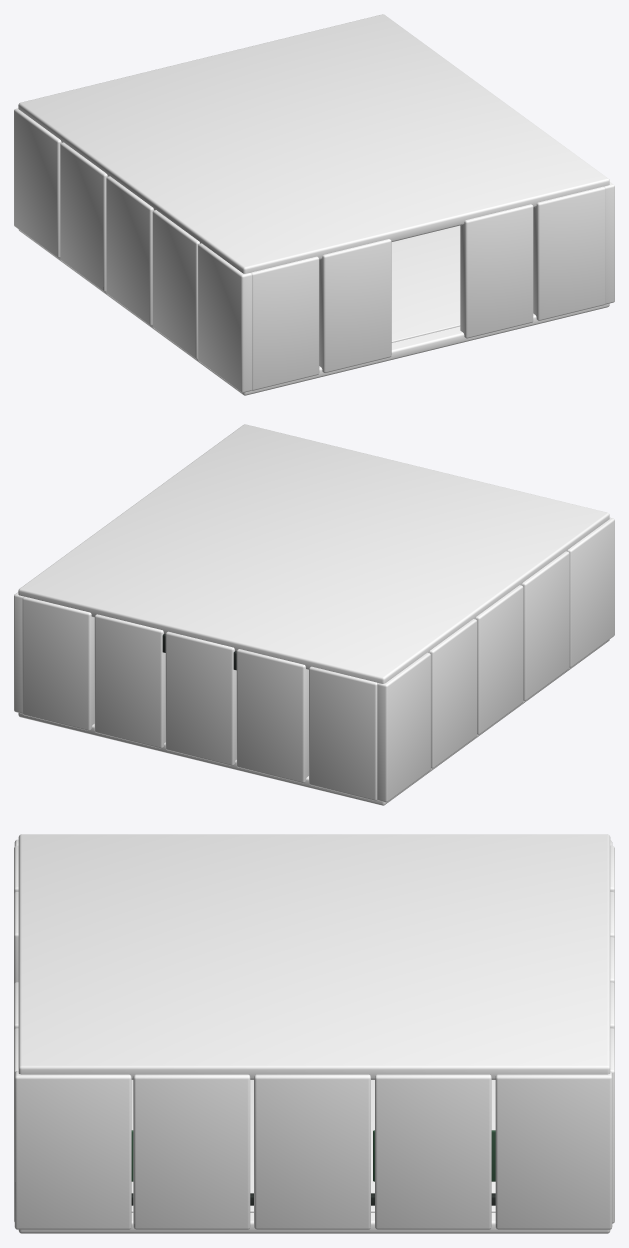
File: bunker_environment_v3.glb
3 renders of one model, top to bottom at view 1: azimuth 30°, elevation 25°; view 2: azimuth 150°, elevation 25°; view 3: azimuth 270°, elevation 25°, orthographic. The views are drawn at different scales.
Visible parts, largest first — view 1: Bunker_Ceiling, WallFront_3, WallFront_4, WallFront_1, WallFront_0, Bunker_FloorPlate, WallLeft_4, WallLeft_0, WallLeft_1, WallLeft_2, WallLeft_3, Bunker_FloorSlab (+1 smaller); view 2: Bunker_Ceiling, WallBack_4, WallBack_1, WallBack_3, WallBack_2, WallBack_0, WallLeft_0, WallLeft_3, WallLeft_2, WallLeft_4, WallLeft_1, Bunker_FloorSlab (+1 smaller); view 3: Bunker_Ceiling, WallRight_4, WallRight_0, WallRight_3, WallRight_2, WallRight_1, Bunker_FloorSlab, Bunker_FloorPlate, WallBack_4.
Part boxes in pixels (x1=…): Bunker_Ceiling: x1=18, y1=14, x2=609, y2=273; WallFront_3: x1=460, y1=204, x2=533, y2=338; WallFront_4: x1=533, y1=186, x2=605, y2=320; WallFront_1: x1=319, y1=239, x2=391, y2=373; WallFront_0: x1=251, y1=256, x2=319, y2=390; Bunker_FloorPlate: x1=391, y1=225, x2=460, y2=342; WallLeft_4: x1=198, y1=243, x2=251, y2=392; WallLeft_0: x1=14, y1=108, x2=61, y2=258; WallLeft_1: x1=60, y1=142, x2=107, y2=291; WallLeft_2: x1=106, y1=176, x2=153, y2=325; WallLeft_3: x1=152, y1=210, x2=199, y2=359; Bunker_FloorSlab: x1=19, y1=230, x2=609, y2=395; Bunker_Ceiling: x1=18, y1=424, x2=609, y2=683; WallBack_4: x1=22, y1=596, x2=94, y2=730; WallBack_1: x1=236, y1=649, x2=308, y2=783; WallBack_3: x1=94, y1=614, x2=165, y2=748; WallBack_2: x1=165, y1=631, x2=236, y2=765; WallBack_0: x1=309, y1=666, x2=377, y2=800; WallLeft_0: x1=377, y1=652, x2=430, y2=802; WallLeft_3: x1=522, y1=551, x2=569, y2=700; WallLeft_2: x1=476, y1=585, x2=523, y2=734; WallLeft_4: x1=567, y1=517, x2=614, y2=667; WallLeft_1: x1=429, y1=619, x2=476, y2=768; Bunker_FloorSlab: x1=18, y1=639, x2=609, y2=805; Bunker_Ceiling: x1=18, y1=834, x2=610, y2=1079; WallRight_4: x1=14, y1=1070, x2=131, y2=1229; WallRight_0: x1=495, y1=1071, x2=612, y2=1229; WallRight_3: x1=133, y1=1074, x2=250, y2=1229; WallRight_2: x1=254, y1=1074, x2=370, y2=1229; WallRight_1: x1=375, y1=1074, x2=491, y2=1229; Bunker_FloorSlab: x1=18, y1=1213, x2=610, y2=1233; Bunker_FloorPlate: x1=131, y1=1080, x2=495, y2=1212; WallBack_4: x1=610, y1=1028, x2=614, y2=1223.
Size of the model in its own units: 14.48 by 4.76 by 15.44.
8 materials, 2 textured.
